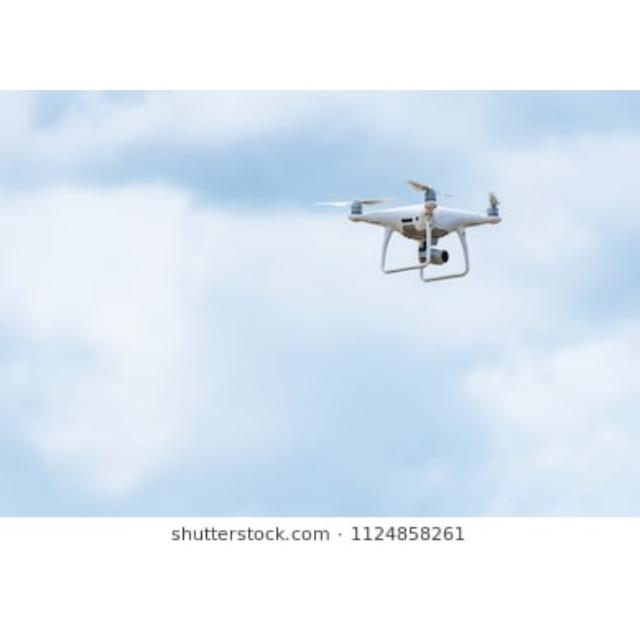Drones: (334, 168, 508, 282)
